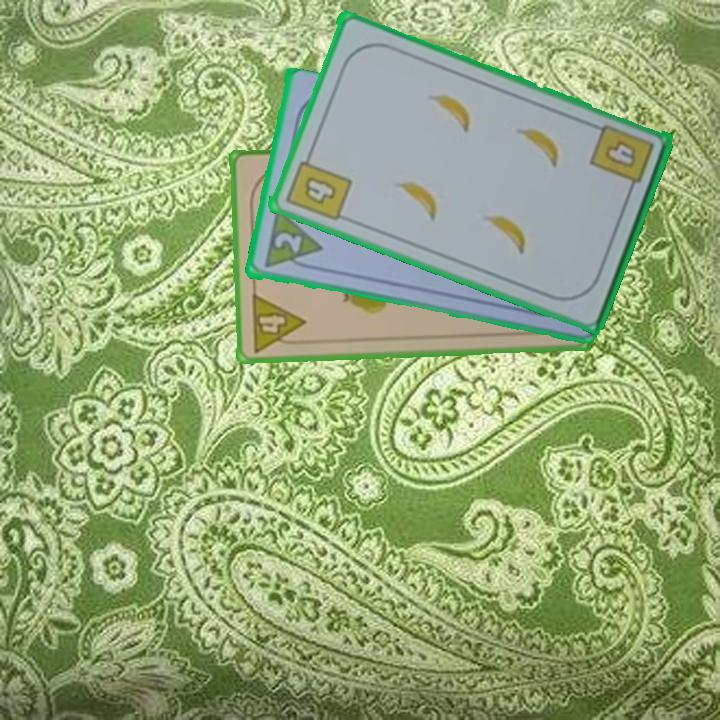2p: (270, 228, 305, 257)
4b: (281, 147, 354, 224), (586, 121, 657, 198)
4p: (247, 290, 308, 355)
